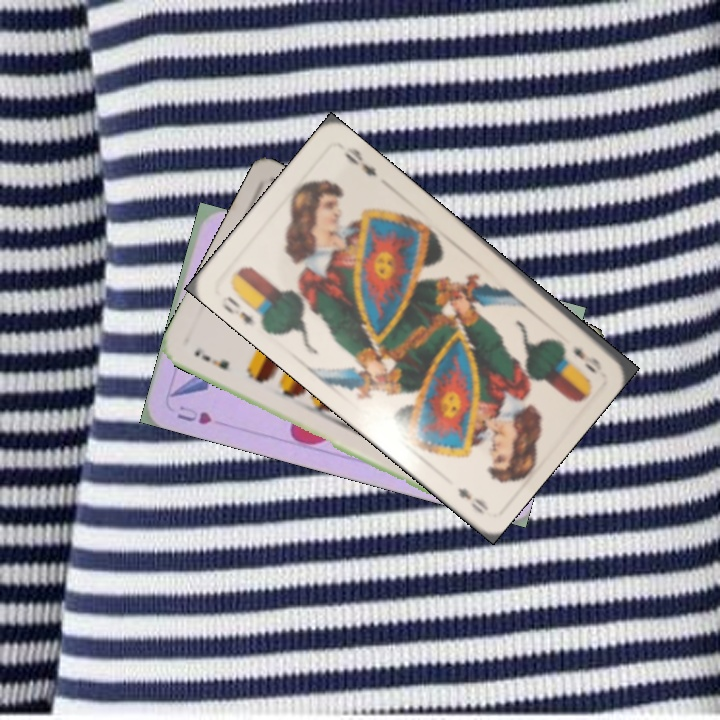E7: (189, 343, 232, 372)
EO: (220, 289, 266, 329), (569, 342, 605, 375)
HU: (173, 402, 215, 427)
